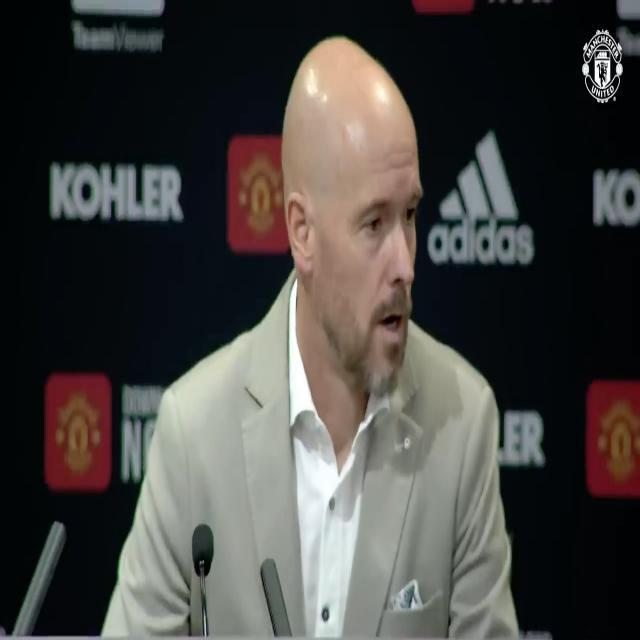Adidas: (427, 123, 533, 272)
Kohler: (51, 162, 184, 223)
TeamViewer: (71, 0, 164, 52)
